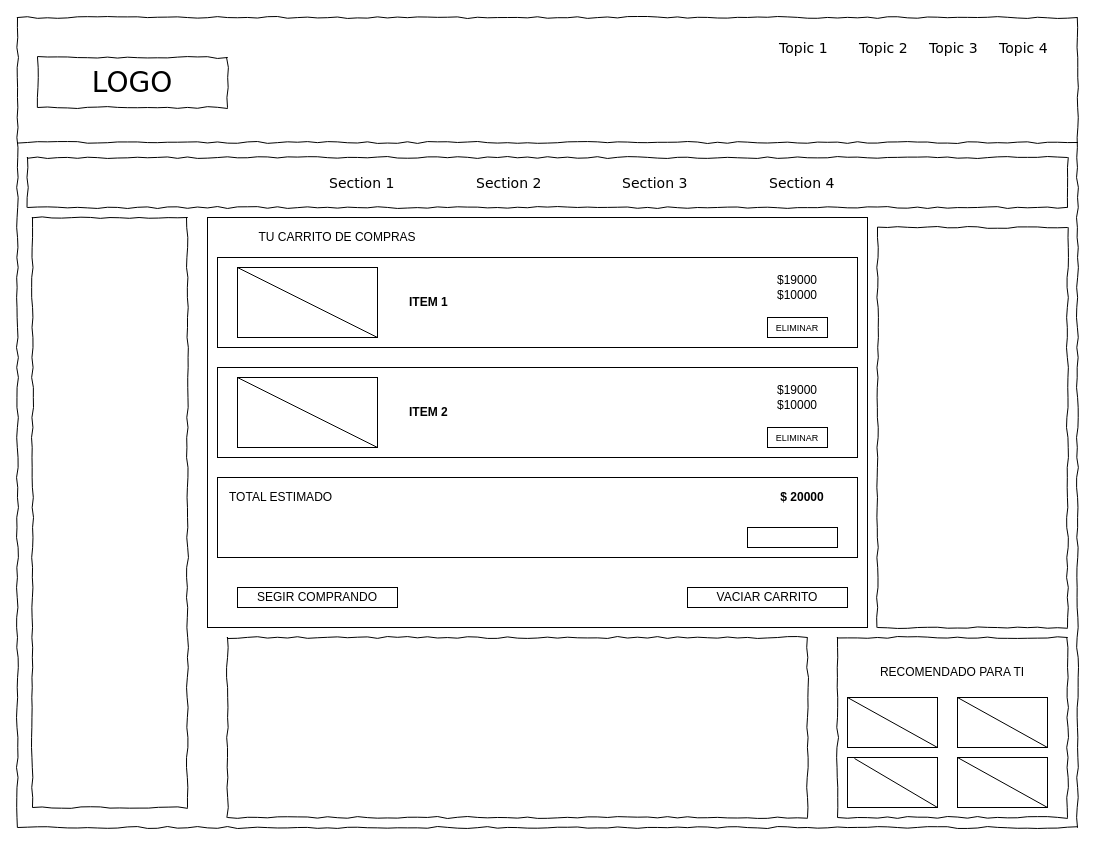
Some shapes in this 1095 by 845 pixel diagram are drawn without their labels. Here are the shapes that lost their labels. From the top down, the centre of each, then its label:
At (x=972, y=427): "LO MAS DESTACADO".
At (x=792, y=537): "COMPRAR".
At (x=517, y=727): "PUBLICIDAD".
